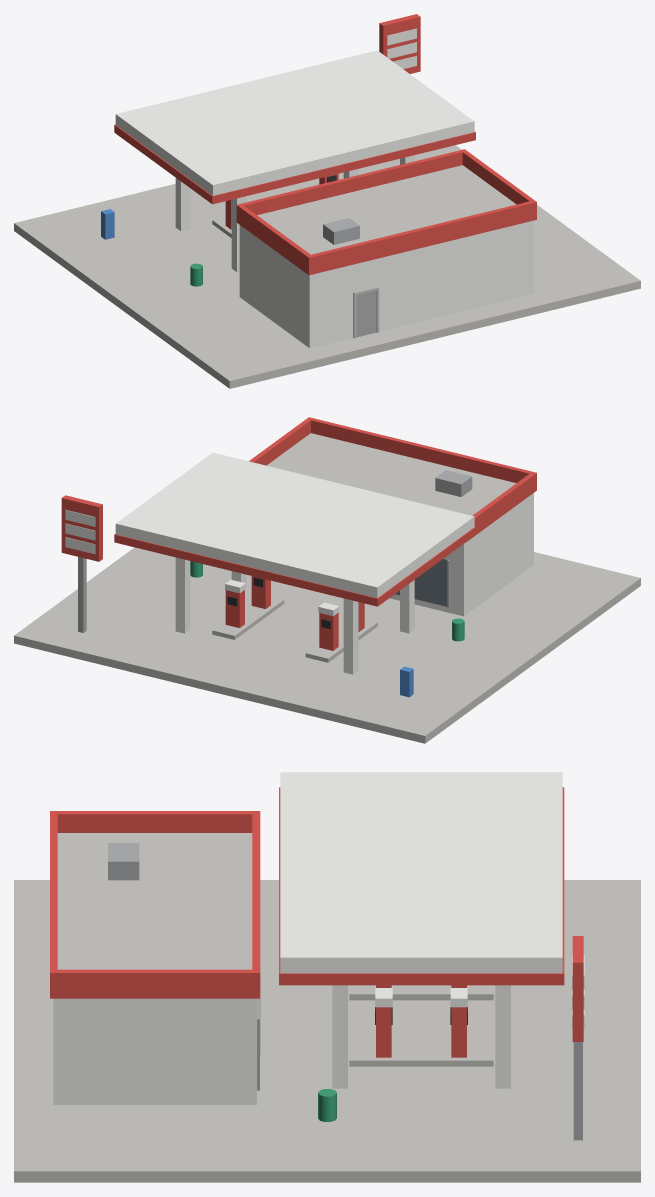
File: gas_station.glb
3 views of the same model, one above another, from view 1: azimuth 30°, elevation 25°; view 2: azimuth 150°, elevation 25°; view 3: azimuth 270°, elevation 25° (orthographic). The views are drawn at different scales.
Parts seen in each view (by area): view 1: gas_station; view 2: gas_station; view 3: gas_station.
Part boxes in pixels (x1=…): gas_station: x1=14, y1=14, x2=640, y2=388; gas_station: x1=14, y1=417, x2=640, y2=743; gas_station: x1=14, y1=772, x2=640, y2=1182.
Size of the model in its own units: 22 by 7.05 by 20.
